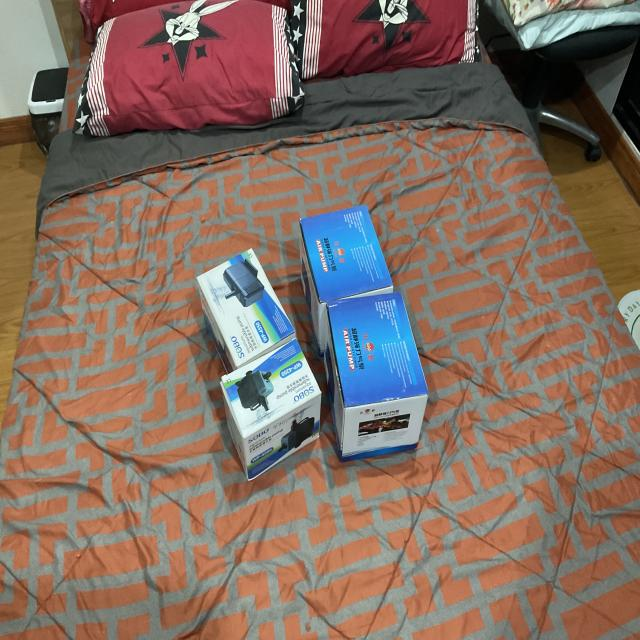SOBO_WP_4200: (212, 333, 328, 506), (176, 235, 303, 377)
YAMANO_LPP_20: (321, 288, 446, 481), (278, 202, 410, 348)
